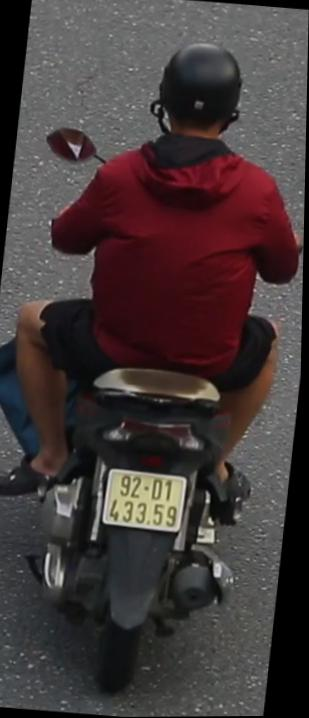LP: (100, 457, 193, 539)
helmet: (142, 36, 258, 167)
